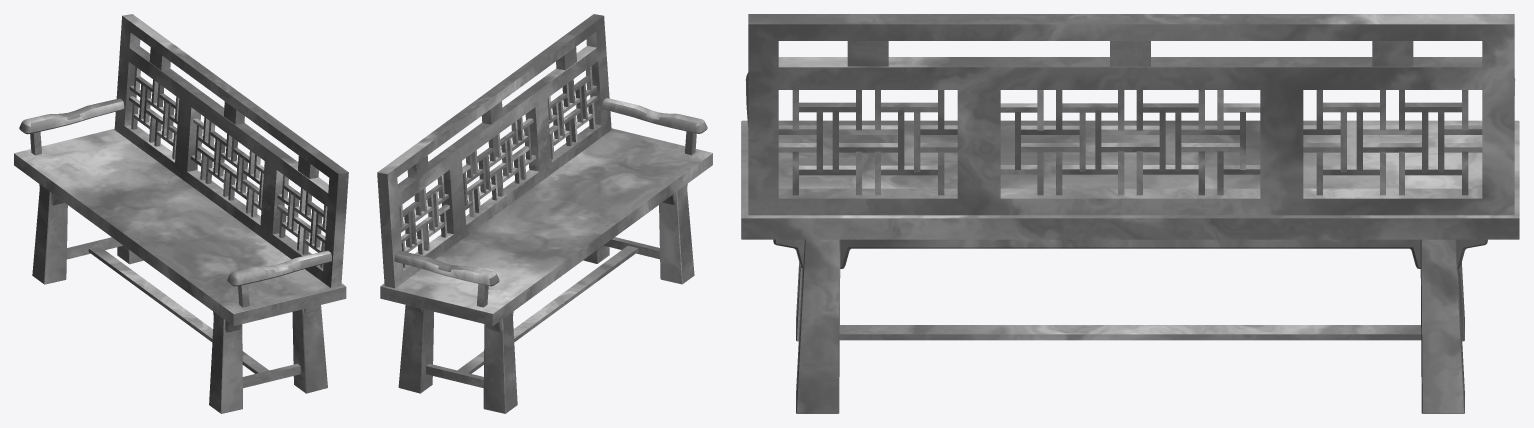
File: SM_bench_01.fbx
3 renders of one model, left to right at view 1: azimuth 30°, elevation 25°; view 2: azimuth 150°, elevation 25°; view 3: azimuth 270°, elevation 25°, orthographic. The views are drawn at different scales.
Visible parts, largest first — view 1: SM_bench_01; view 2: SM_bench_01; view 3: SM_bench_01.
Part boxes in pixels (x1,y1,x2,y2): SM_bench_01: (14, 14, 348, 413); SM_bench_01: (377, 14, 712, 413); SM_bench_01: (741, 14, 1519, 413).
Size of the model in its own units: 58.04 by 188 by 106.
1 material, 1 textured.
